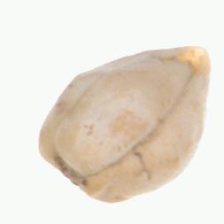L3: (171, 45, 213, 79)
L4: (39, 47, 210, 203)
